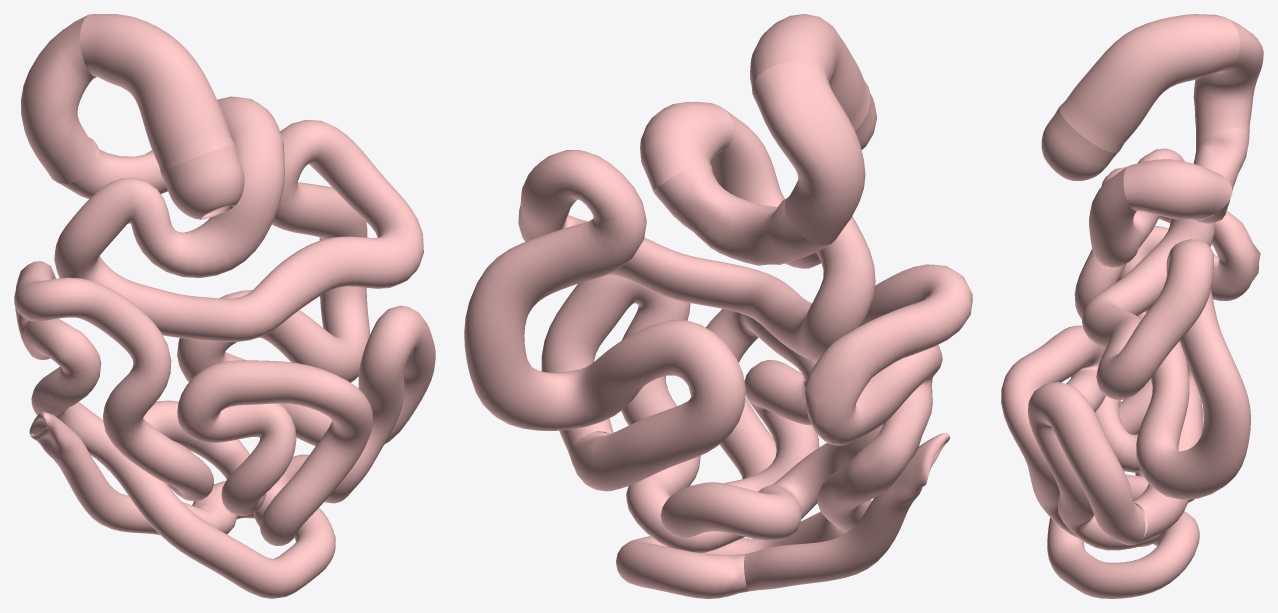
The model's file is small-intestine-female.glb.
3 views of the same model, side by side, from view 1: azimuth 30°, elevation 25°; view 2: azimuth 150°, elevation 25°; view 3: azimuth 270°, elevation 25° (orthographic). The views are drawn at different scales.
Parts seen in each view (by area): view 1: VH_F_ileum, VH_F_jejenum, VH_F_duodenum_superior, VH_F_duodenum_descending, VH_F_ileum_terminal, VH_F_duodenal_ampulla, VH_F_duodenum_horizontal, VH_F_duodenum_ascending; view 2: VH_F_ileum, VH_F_jejenum, VH_F_duodenum_descending, VH_F_ileum_terminal, VH_F_duodenum_horizontal, VH_F_duodenum_superior, VH_F_duodenum_ascending; view 3: VH_F_jejenum, VH_F_ileum, VH_F_duodenum_superior, VH_F_duodenum_ascending, VH_F_duodenum_descending, VH_F_duodenal_ampulla, VH_F_duodenum_horizontal.
Boxes of the visible parts, x1,y1,x2,y2 form: VH_F_ileum: (14,261,435,598); VH_F_jejenum: (54,120,423,446); VH_F_duodenum_superior: (80,14,234,173); VH_F_duodenum_descending: (21,14,96,183); VH_F_ileum_terminal: (29,411,217,535); VH_F_duodenal_ampulla: (161,145,244,219); VH_F_duodenum_horizontal: (59,137,167,198); VH_F_duodenum_ascending: (217,96,281,140); VH_F_ileum: (541,264,972,598); VH_F_jejenum: (464,107,875,491); VH_F_duodenum_descending: (752,62,865,245); VH_F_ileum_terminal: (744,433,949,591); VH_F_duodenum_horizontal: (654,163,830,265); VH_F_duodenum_superior: (750,14,870,130); VH_F_duodenum_ascending: (640,101,733,193); VH_F_jejenum: (1082,148,1250,542); VH_F_ileum: (1001,167,1260,598); VH_F_duodenum_superior: (1059,14,1240,153); VH_F_duodenum_ascending: (1123,159,1232,219); VH_F_duodenum_descending: (1193,17,1263,142); VH_F_duodenal_ampulla: (1041,108,1119,180); VH_F_duodenum_horizontal: (1193,128,1249,223).
Size of the model in its own units: 0.1616 by 0.2172 by 0.1.
